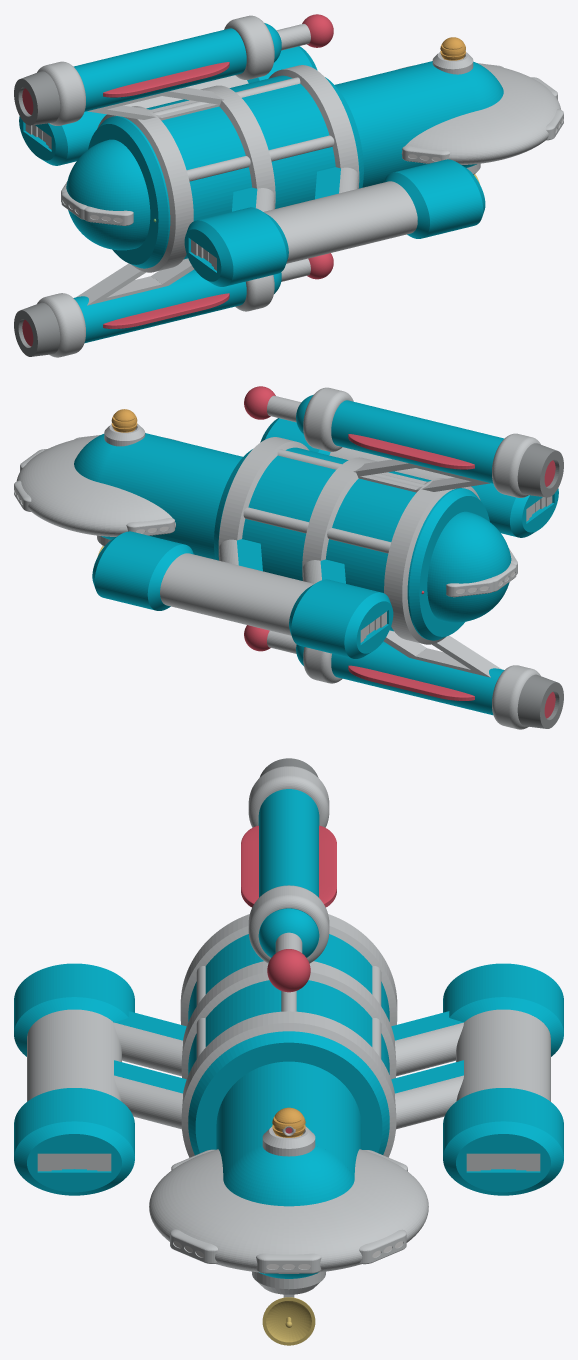
File: earth_carrier.glb
The picture shows the model from 3 angles, top to bottom: view 1: azimuth 30°, elevation 25°; view 2: azimuth 150°, elevation 25°; view 3: azimuth 270°, elevation 25°; orthographic projection. The views are drawn at different scales.
Parts seen in each view (by area): view 1: Mesh_Mesh_head_geo.001_lambert2SG.001; view 2: Mesh_Mesh_head_geo.001_lambert2SG.001; view 3: Mesh_Mesh_head_geo.001_lambert2SG.001.
Boxes of the visible parts, x1=… form: Mesh_Mesh_head_geo.001_lambert2SG.001: x1=14, y1=14, x2=563, y2=357; Mesh_Mesh_head_geo.001_lambert2SG.001: x1=14, y1=386, x2=563, y2=729; Mesh_Mesh_head_geo.001_lambert2SG.001: x1=14, y1=758, x2=563, y2=1345.
Size of the model in its own units: 162 by 85.5 by 114.
